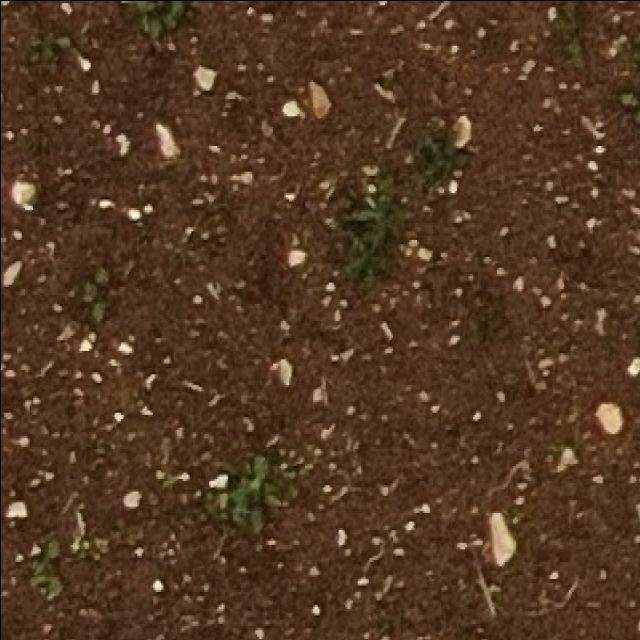cirse: (335, 179, 401, 245), (343, 181, 410, 244), (341, 173, 402, 241)
